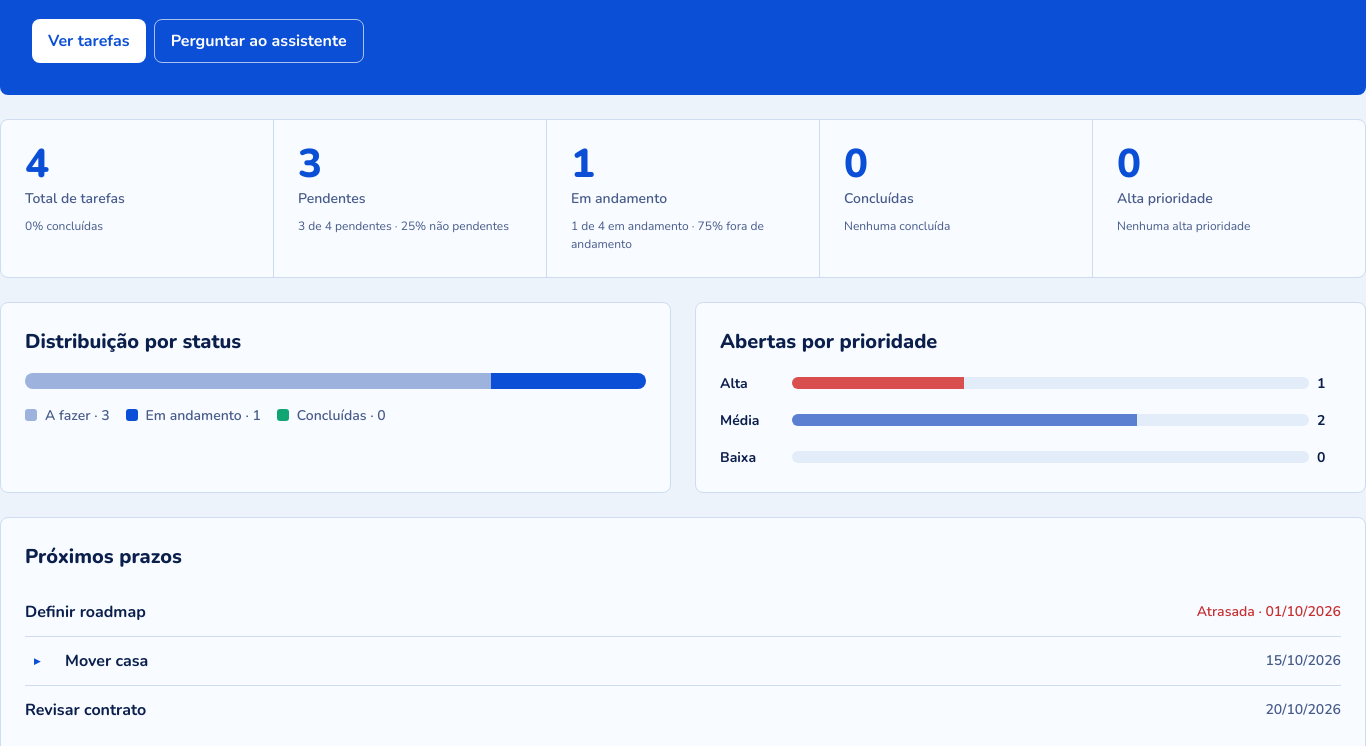
Scenario: DashboardPage › expande a raiz e lista as subtarefas recuadas com o tempo para realizar
(page scrolled)
Expected: the text "15/10/2026" is shown, [1266,650,1341,671]
Expected: the text "Contratar empresa" is not shown
Step 1. Click the button named "Ver subtarefas de Mover casa" → coordinates (37, 661), box [25,639,49,683]
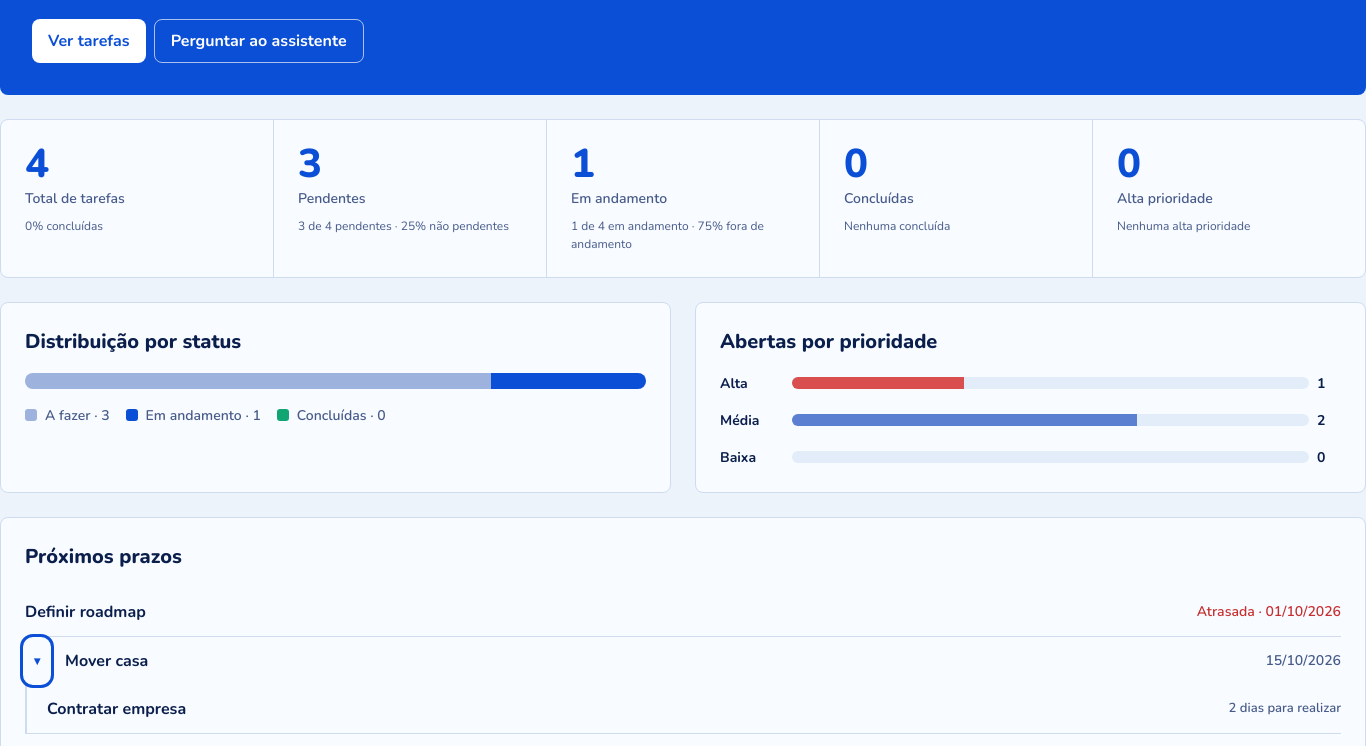
Result: the button "Contratar empresa" is shown at [47,697,1213,721]
Result: the text "2 dias para realizar" is shown at [1229,699,1341,719]
Result: the button named "Recolher subtarefas de Mover casa" is expanded
Step 2. Click the button named "Recolher subtarefas de Mover casa" → coordinates (37, 661), box [25,639,49,683]
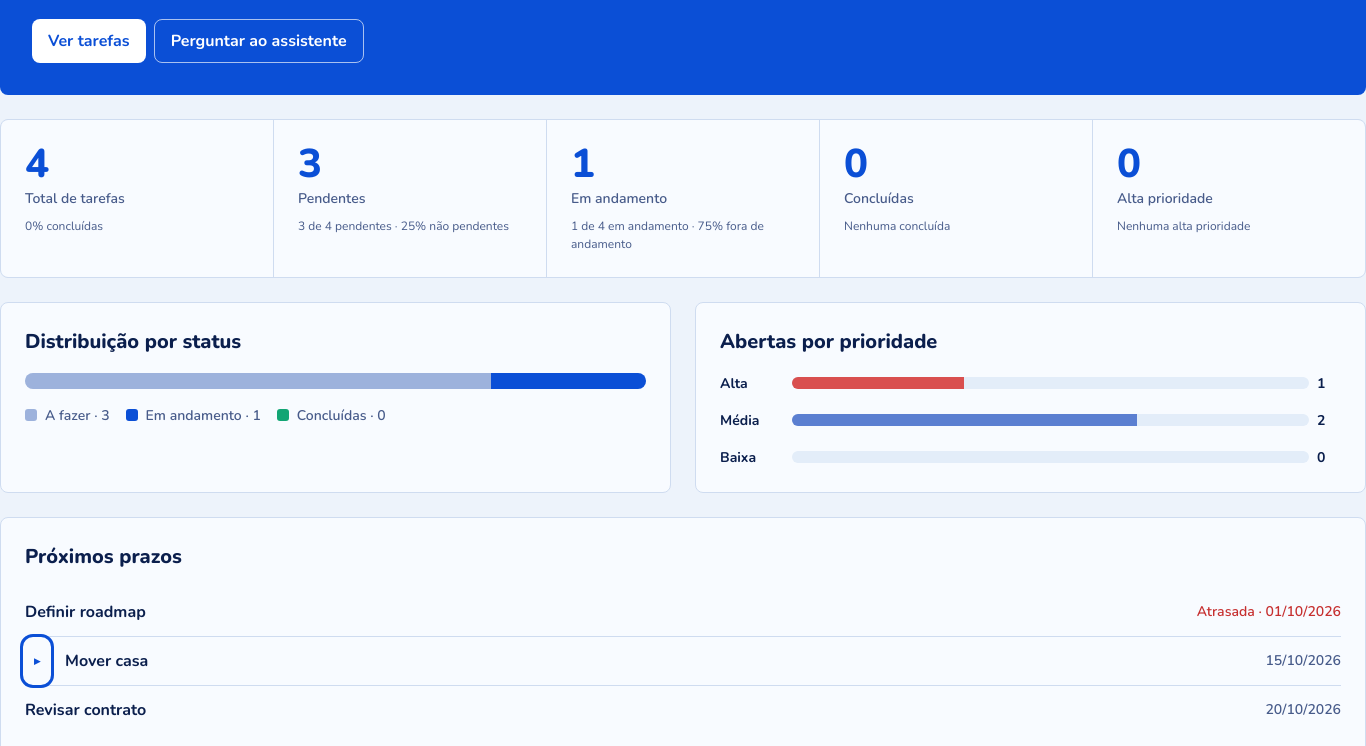
Result: the button "Contratar empresa" is gone
